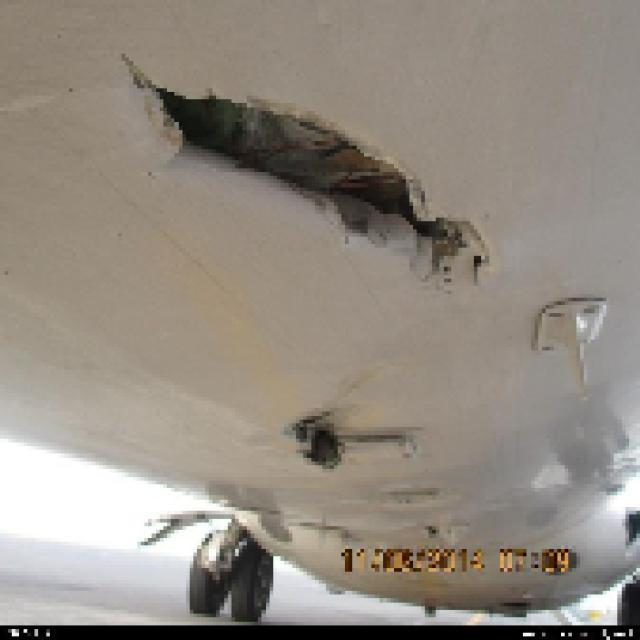crack: (120, 53, 498, 289)
